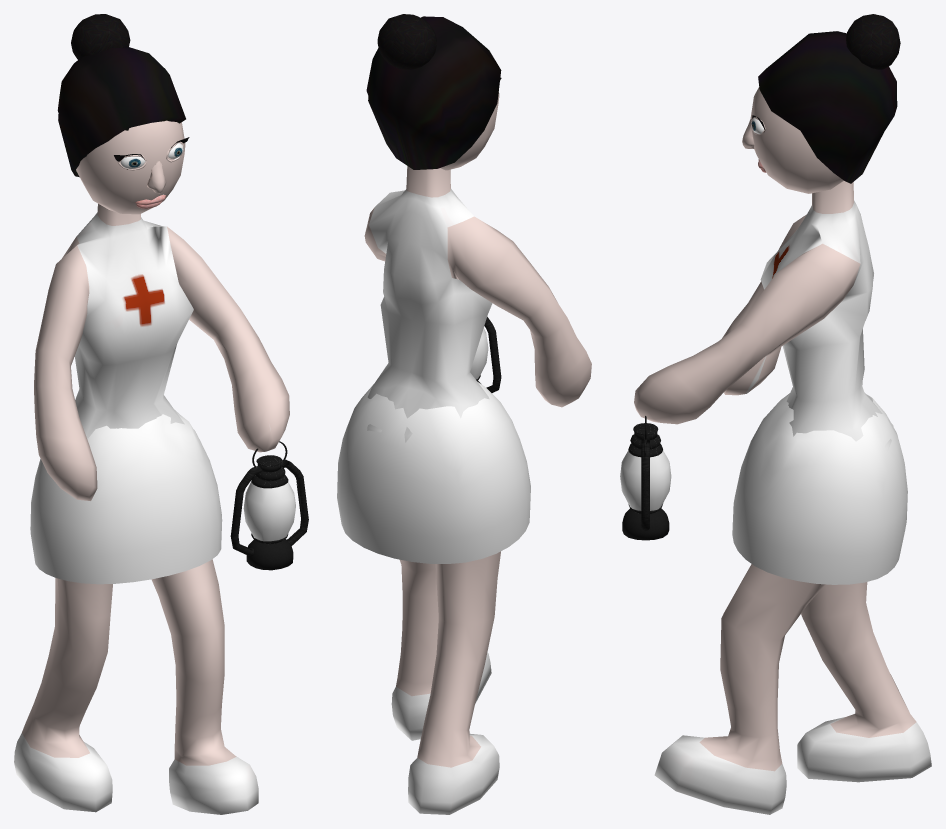
File: walking_000023.obj
3 renders of one model, left to right at view 1: azimuth 30°, elevation 25°; view 2: azimuth 150°, elevation 25°; view 3: azimuth 270°, elevation 25°, orthographic.
Visible parts, largest first — view 1: Cube_Cube.001, Cube.001_Cube, Cube.004; view 2: Cube_Cube.001, Cube.001_Cube, Cube.004; view 3: Cube_Cube.001, Cube.001_Cube, Cube.004.
Boxes of the visible parts, left/top/right/bottom form: Cube_Cube.001: left=14, top=14, right=289, bottom=814; Cube.001_Cube: left=30, top=410, right=222, bottom=584; Cube.004: left=230, top=441, right=308, bottom=570; Cube_Cube.001: left=364, top=14, right=591, bottom=814; Cube.001_Cube: left=337, top=382, right=530, bottom=563; Cube.004: left=470, top=317, right=501, bottom=392; Cube_Cube.001: left=634, top=14, right=931, bottom=814; Cube.001_Cube: left=732, top=393, right=907, bottom=584; Cube.004: left=620, top=416, right=671, bottom=540.
Size of the model in its own units: 0.6047 by 2.06 by 0.7541.
